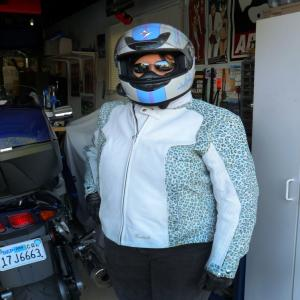Vehicle-registration-plate: (7, 244, 44, 277)
